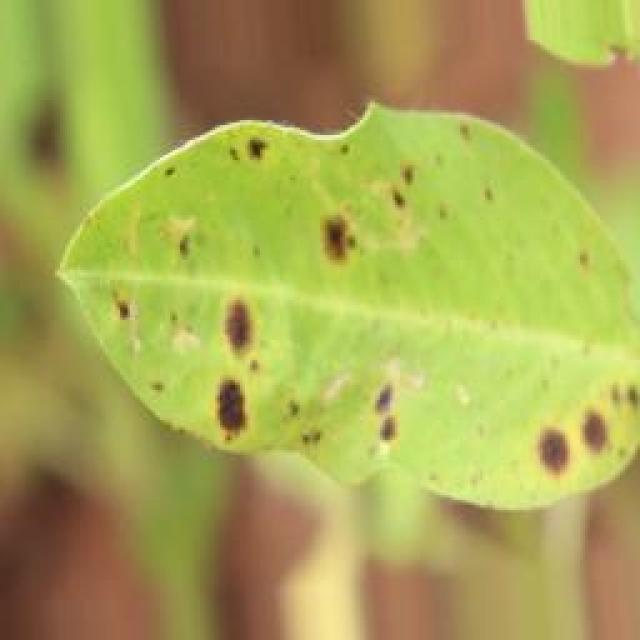Yellowish: (60, 109, 634, 512)
